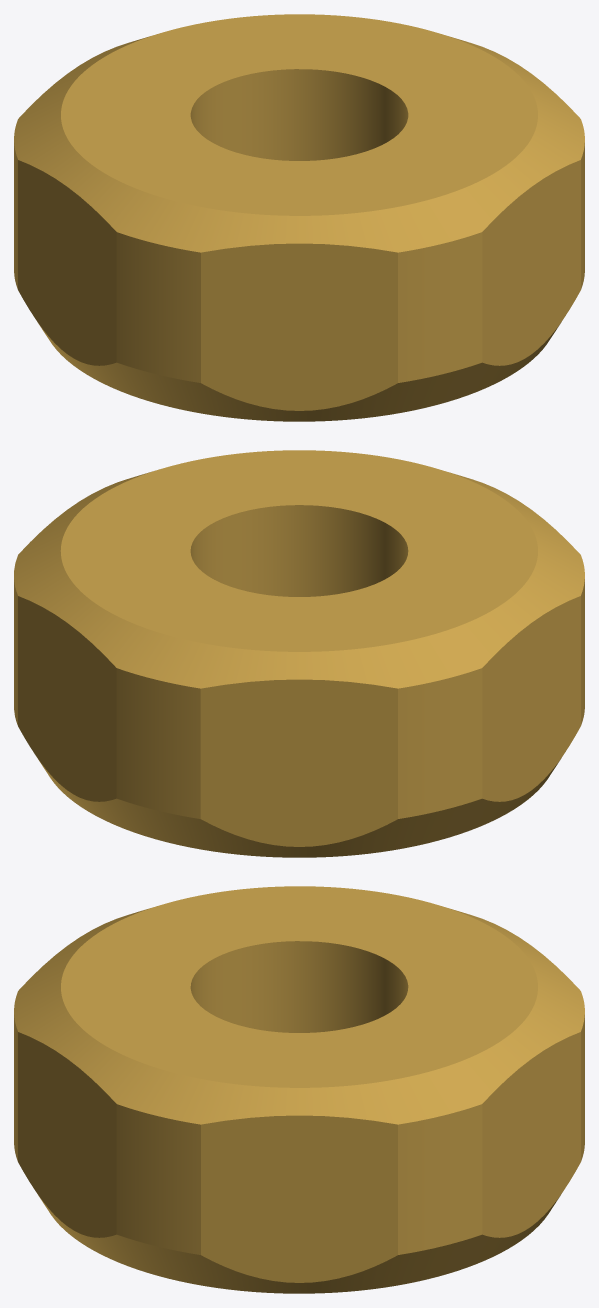
The model's file is nut_din934_m1p6_brass.glb.
3 views of the same model, one above another, from view 1: azimuth 30°, elevation 25°; view 2: azimuth 150°, elevation 25°; view 3: azimuth 270°, elevation 25° (orthographic).
Visible parts, largest first — view 1: nut; view 2: nut; view 3: nut.
Boxes of the visible parts, x1,y1,x2,y2 form: nut: [14, 14, 584, 421]; nut: [14, 450, 584, 857]; nut: [14, 886, 584, 1293].
Bounding box in the file's own units: 0.0032 × 0.0013 × 0.00341.
